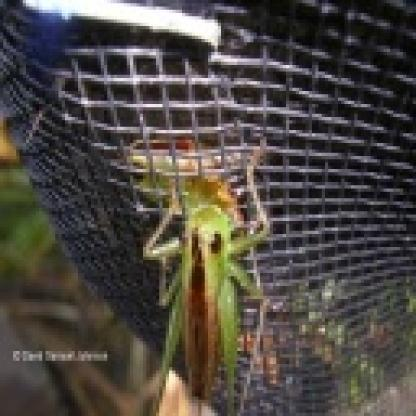grasshopper: (136, 161, 264, 406)
